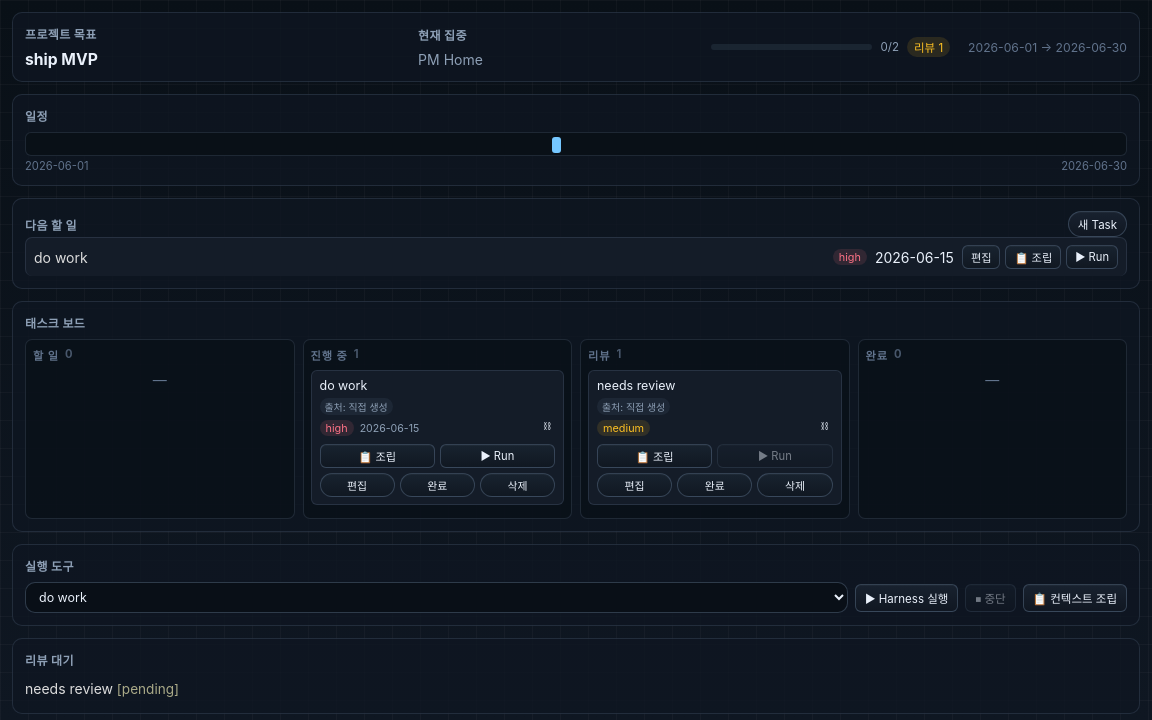
Scenario: PmHome › opens a blank Task editor from the next-up heading
Click the button "새 Task".
click(1097, 224)  # box [1068,211,1127,237]
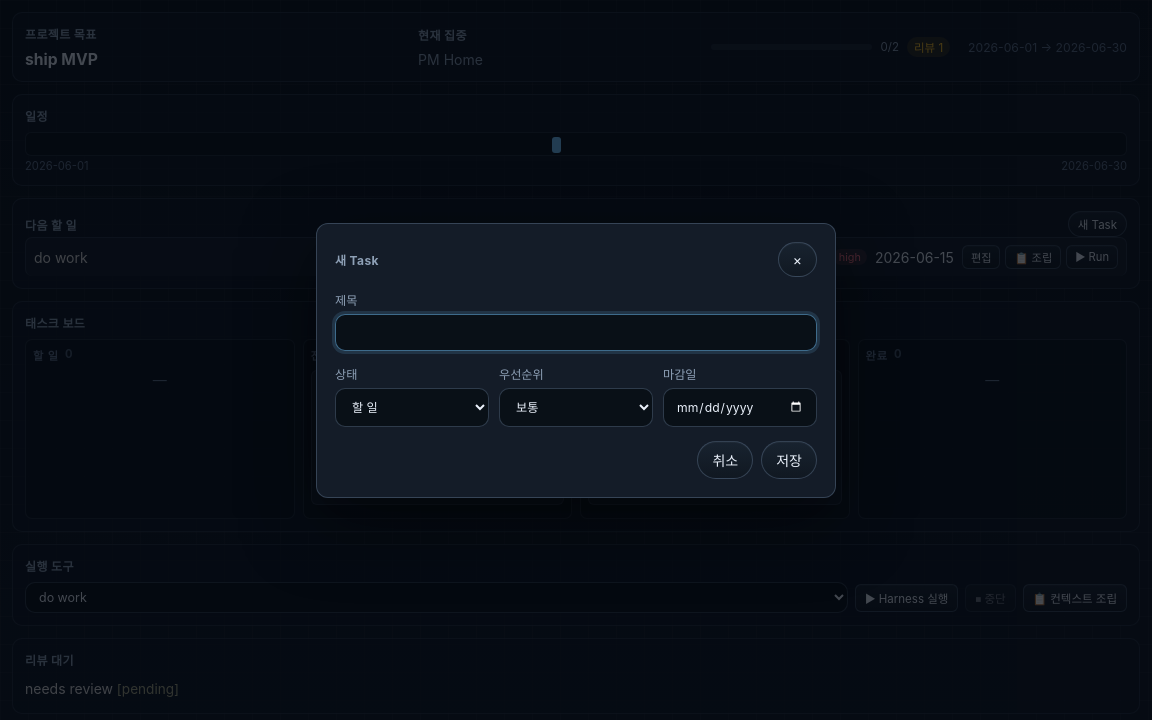
Expected: the dialog "새 Task" is shown
Expected: the field named "Task 제목" is empty, [335,314,817,350]
